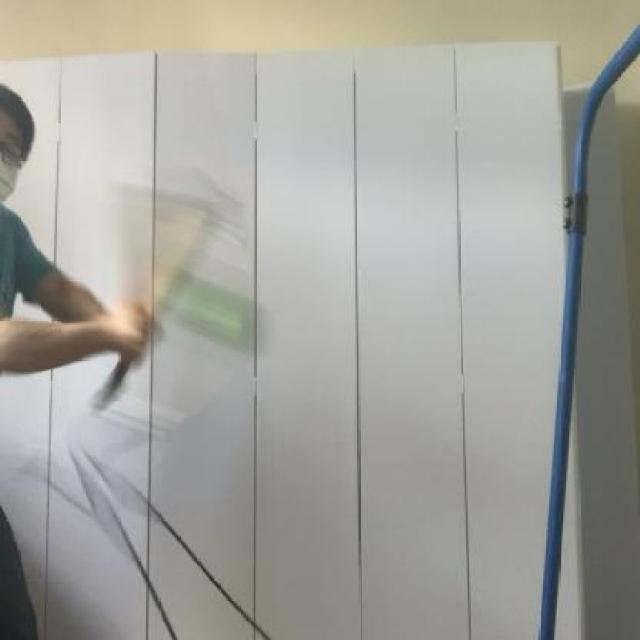baseball: (153, 265, 273, 361)
